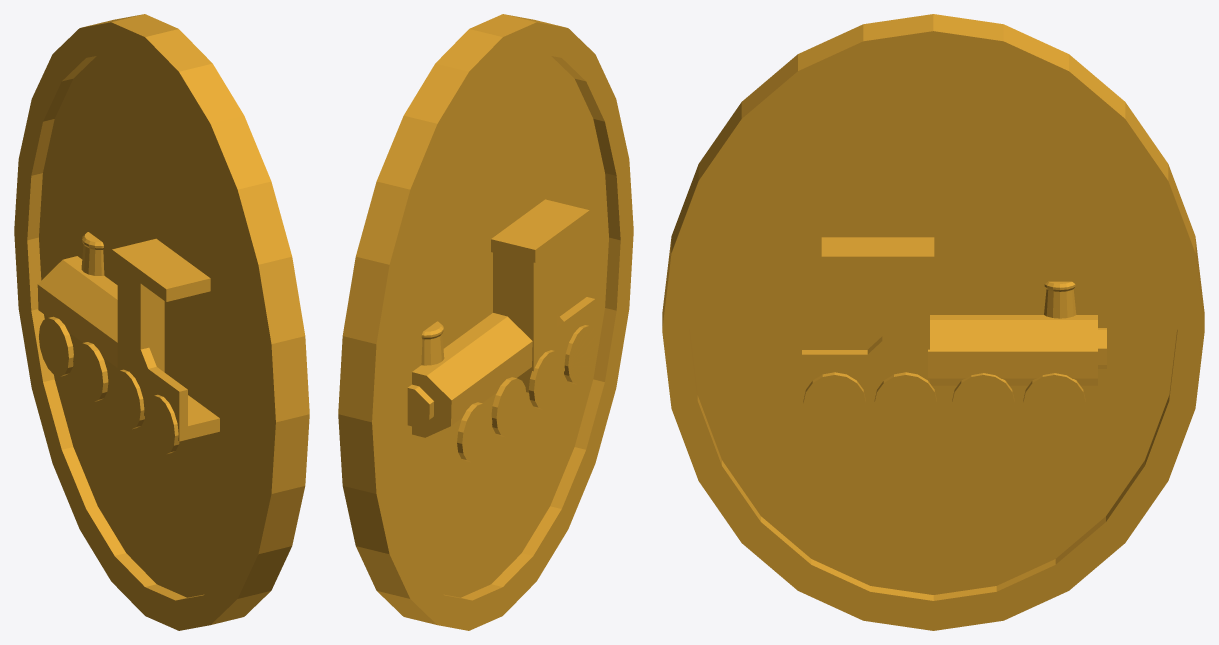
File: Piece.fbx
The picture shows the model from 3 angles, left to right: view 1: azimuth 30°, elevation 25°; view 2: azimuth 150°, elevation 25°; view 3: azimuth 270°, elevation 25°; orthographic projection. The views are drawn at different scales.
Visible parts, largest first — view 1: Piece.000; view 2: Piece.000; view 3: Piece.000.
Boxes of the visible parts, x1,y1,x2,y2 form: Piece.000: [14, 14, 309, 630]; Piece.000: [338, 14, 633, 630]; Piece.000: [662, 14, 1204, 630].
Bounding box in the file's own units: 42.1 × 244 × 200.
